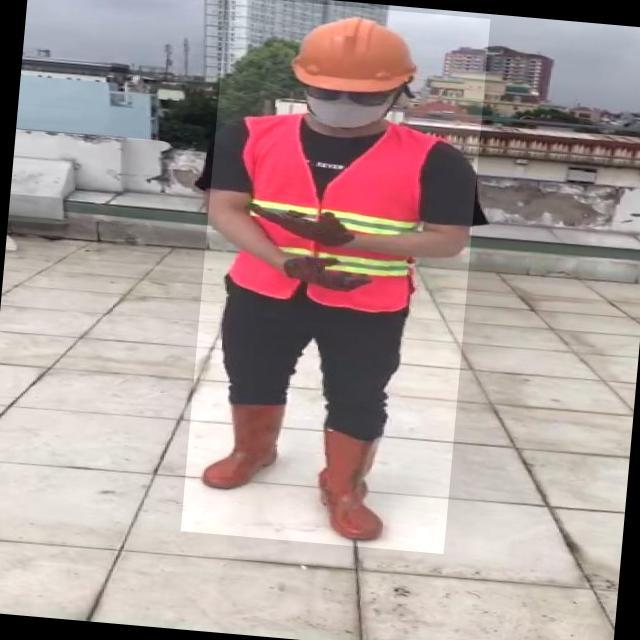Gloves: (259, 206, 358, 251), (278, 253, 367, 294)
Helmet: (277, 10, 429, 97)
Human: (180, 0, 490, 553)
Safety Boot: (312, 428, 391, 543), (198, 397, 283, 495)
Safety Vest: (224, 109, 441, 317)
